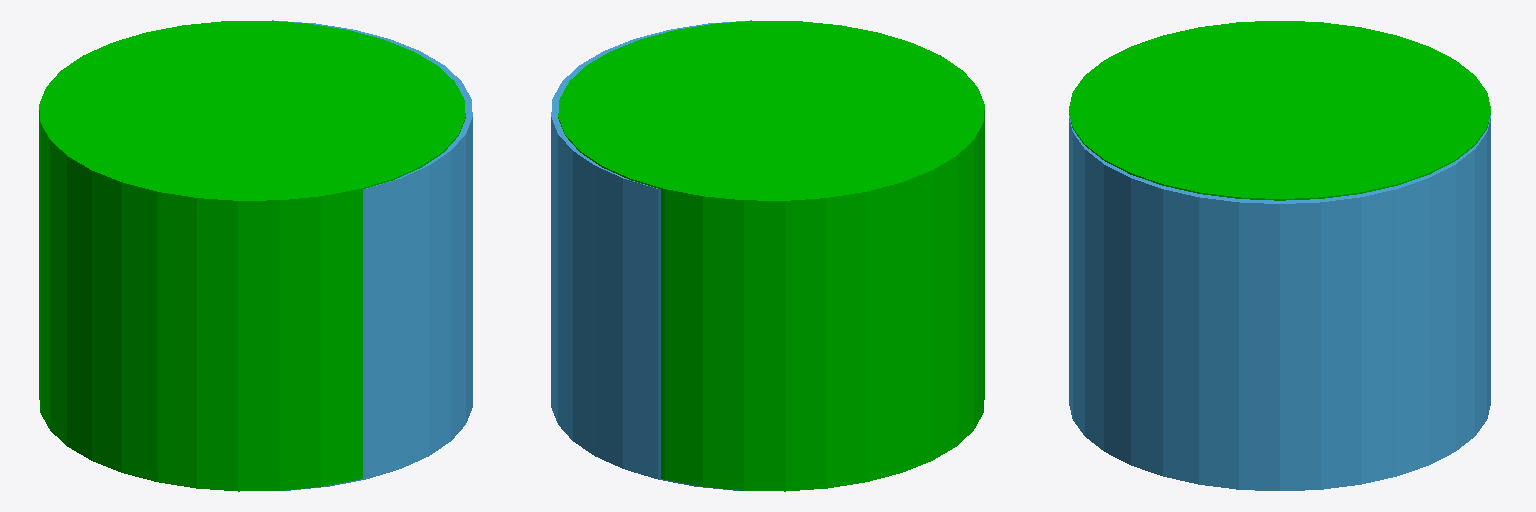
The robot description file, URDF, robot "mira":
<?xml version="1.0"?>
<robot name="mira">
    <material name="green">
        <color rgba="0 0.8 0 1"/>
    </material>


    <link name="base_link">
        <visual>
        <origin rpy="0 0 0" xyz="0 0 0"/>
        <geometry>
            <cylinder radius="0.06" length="0.09"/>
        </geometry>
        <material name="green"/>
        </visual>
    </link>
  
    <link name="roll_M1_link">
        <visual>
            <origin rpy="0 0 0" xyz="0 0 0"/>
            <geometry>
                <cylinder radius="0.06" length="0.09"/>
            </geometry>
        </visual>
    </link>
    
    <joint name="roll_joint" type="revolute">
        <parent link="base_link"/>
        <child link="roll_M1_link"/>
        <origin xyz="0.0023 0 -0.0005" rpy="0 0 0"/>
        <limit lower="-0.2" upper="0.2" effort="0.1" velocity="0.005"/>
        <axis xyz="1 0 0"/>
    </joint>
  
</robot>

--- What the picture shows (computed from the rendered views, not written in the file) ---
The picture shows the robot from 3 angles, left to right: view 1: azimuth 30°, elevation 25°; view 2: azimuth 150°, elevation 25°; view 3: azimuth 270°, elevation 25°; orthographic projection.
Robot: mira — 2 links, 1 joints (1 revolute); root link base_link; default pose: every joint at zero.
Links seen in each view (by area): view 1: base_link, roll_M1_link; view 2: base_link, roll_M1_link; view 3: roll_M1_link, base_link.
Link boxes in pixels (bbox=[...]): base_link: bbox=[39, 21, 465, 491]; roll_M1_link: bbox=[272, 20, 472, 490]; base_link: bbox=[558, 21, 984, 491]; roll_M1_link: bbox=[551, 20, 751, 490]; roll_M1_link: bbox=[1069, 115, 1490, 490]; base_link: bbox=[1069, 21, 1490, 200].
Size in the robot's own frame: 0.1223 by 0.12 by 0.0905 metres.
Geometry: primitives only (box / cylinder / sphere), no mesh files.
